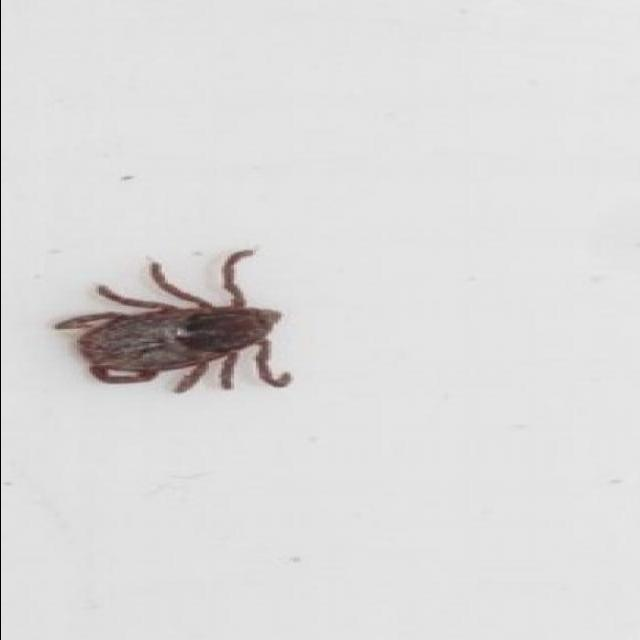Rhipicephalus Sanguineus-F: (51, 249, 290, 394)
